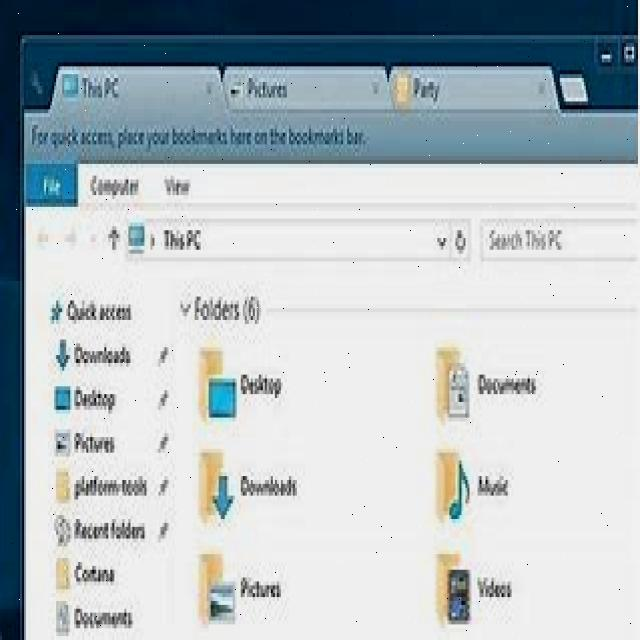button: (594, 34, 620, 72), (452, 216, 472, 265), (27, 64, 47, 107), (29, 220, 52, 252), (62, 219, 82, 255), (106, 218, 122, 262), (85, 218, 104, 252), (621, 34, 636, 74)
dropdownMenu: (176, 288, 640, 640), (124, 217, 450, 266)
input: (479, 213, 640, 266)
label: (30, 124, 369, 155)
menu: (22, 156, 640, 277)
menuItem: (431, 337, 544, 430), (429, 542, 534, 640), (193, 443, 306, 528), (193, 338, 291, 428), (195, 543, 294, 630), (428, 443, 514, 529), (52, 596, 154, 640), (49, 509, 152, 548), (54, 465, 151, 506), (49, 293, 136, 335), (51, 425, 128, 471), (51, 548, 119, 594), (54, 338, 134, 374), (51, 379, 121, 418)
tabControl: (49, 63, 593, 122)
